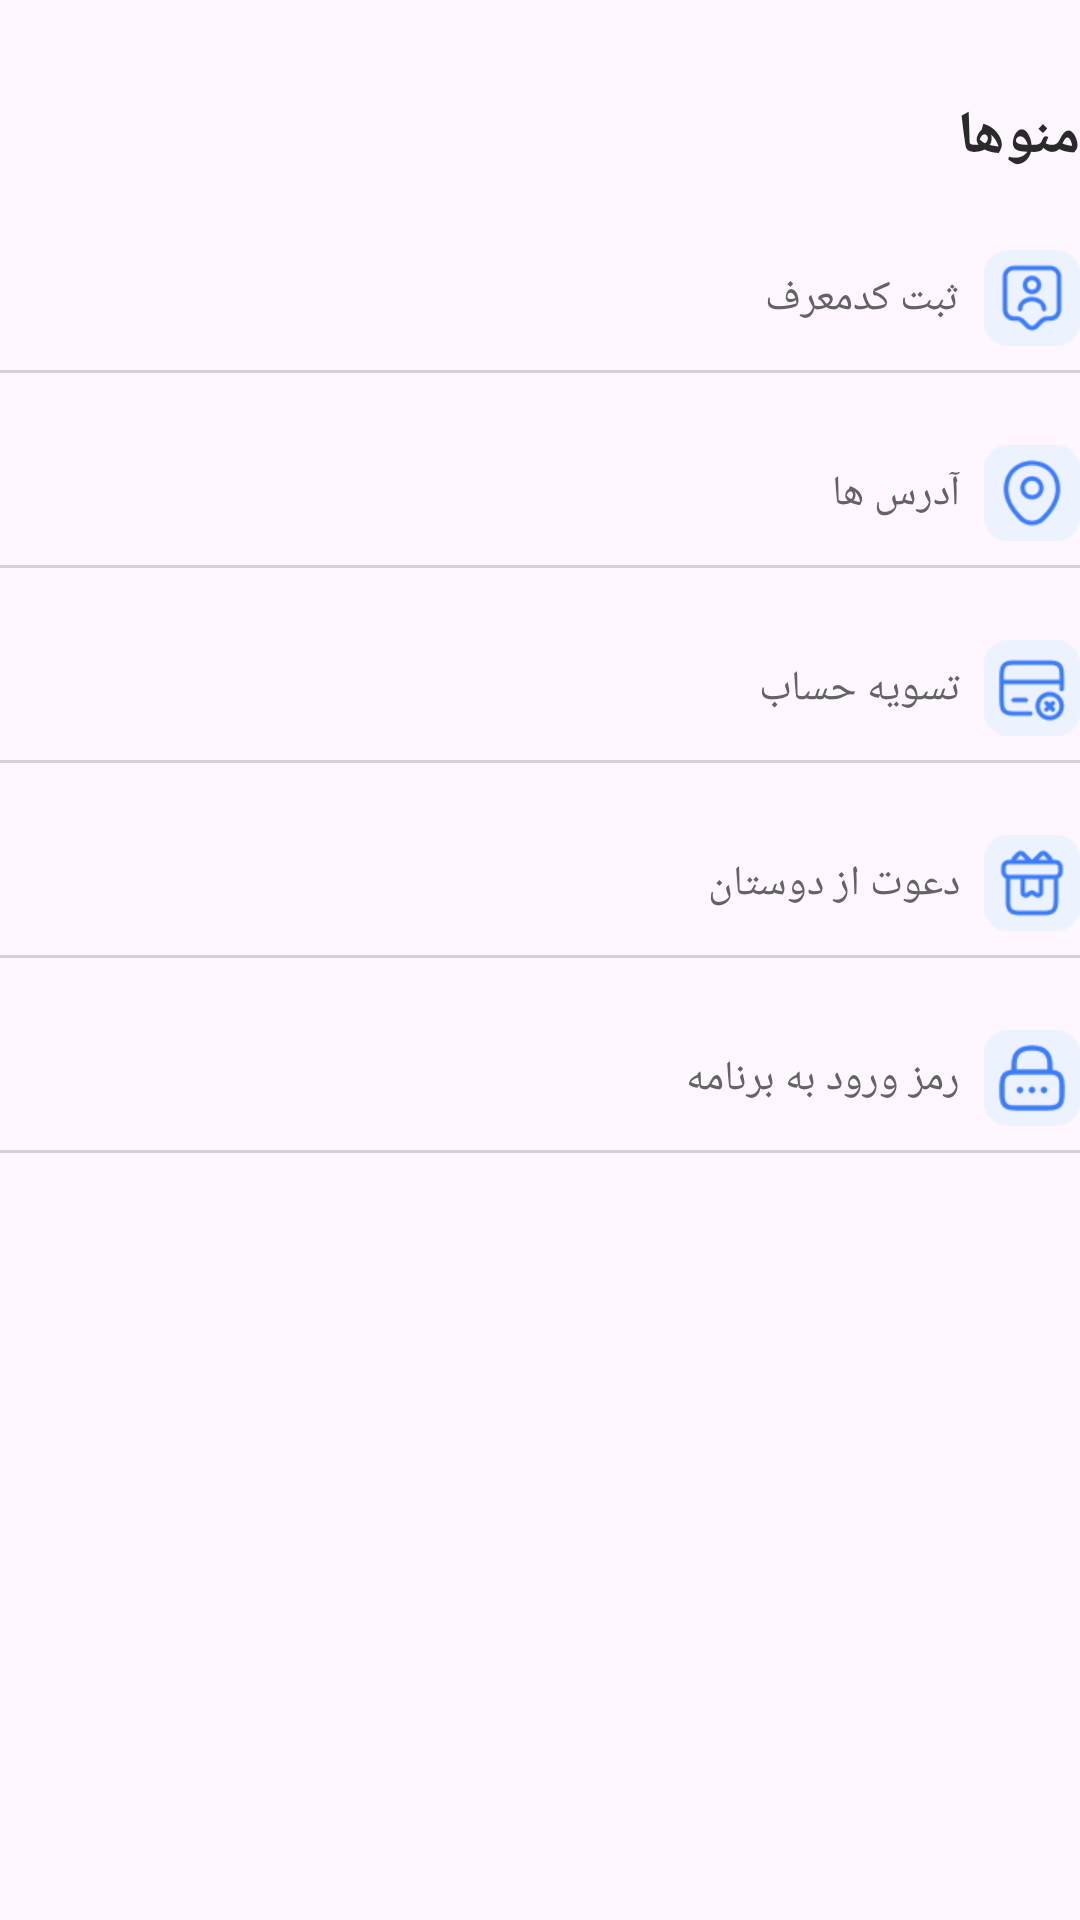

Named icons in this screenshot (1080×1920) and their centers, point (x, y):
contact: point (1032, 298)
gift: point (1032, 883)
location: point (1032, 493)
password: point (1032, 1078)
